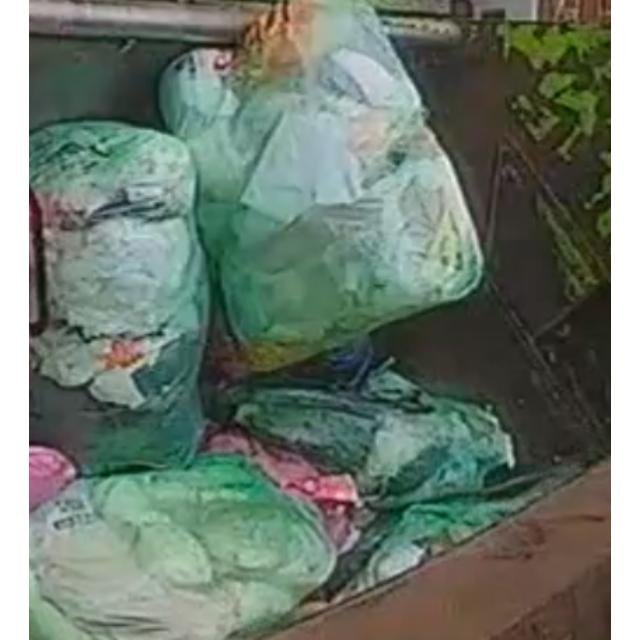general_trashbag: (160, 0, 482, 369), (30, 121, 209, 472), (32, 455, 336, 640)
